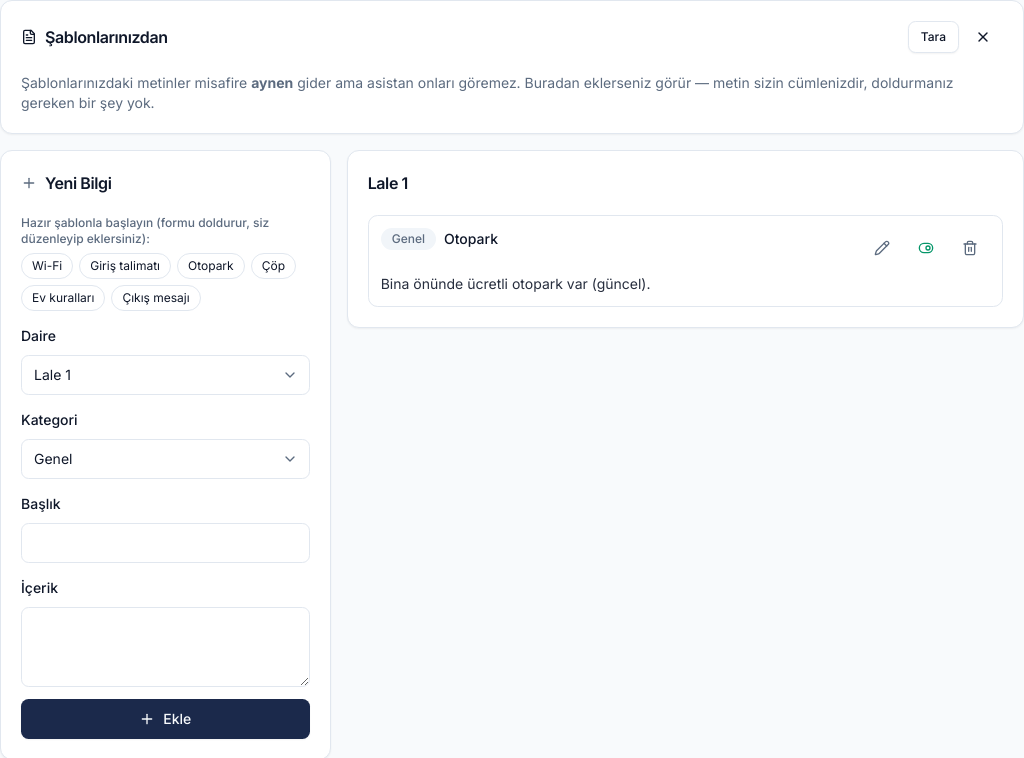
Test: Bilgi tabanı formu (KbManager) › kurucu D1: 'Kaydedilen bilgiyi düzenle' düzenleyiciyi GÜNCEL listeden açar (409 anındaki kopyadan değil)
Type "Otopark" into the field with id "kb-title" at (165, 543), box [21, 523, 310, 563]
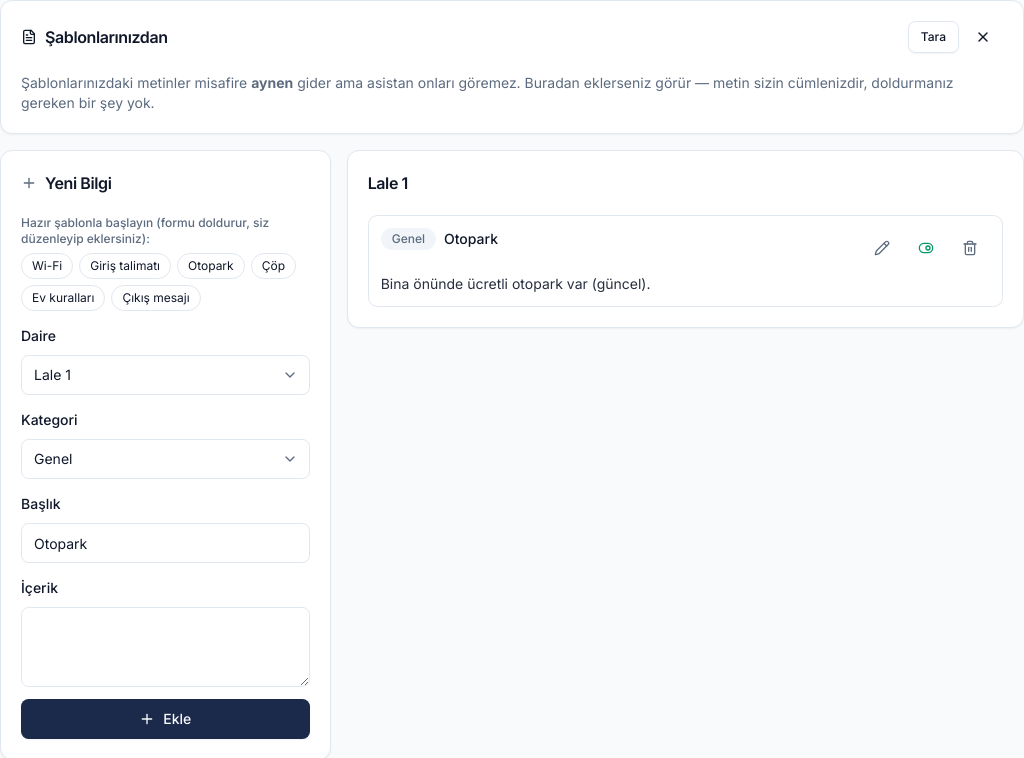
Type "Bina önünde ücretsiz otopark var." into the text box with id "kb-content" at (165, 647), box [21, 607, 310, 687]
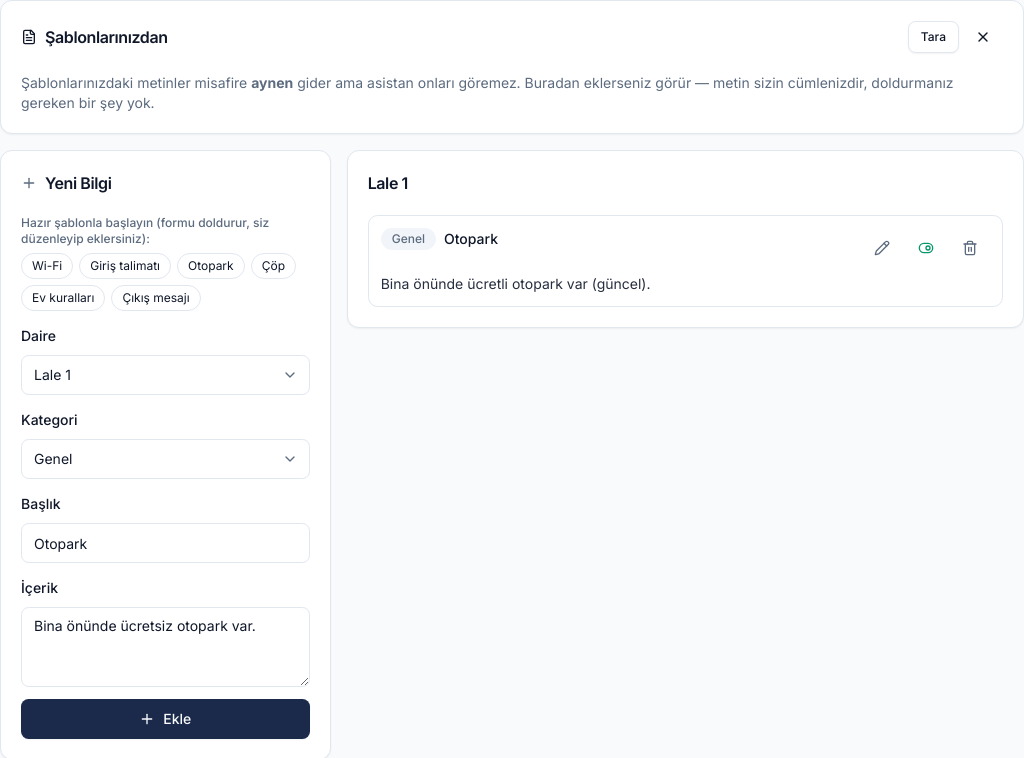
Click the button "Ekle" at (165, 719), box [21, 699, 310, 739]
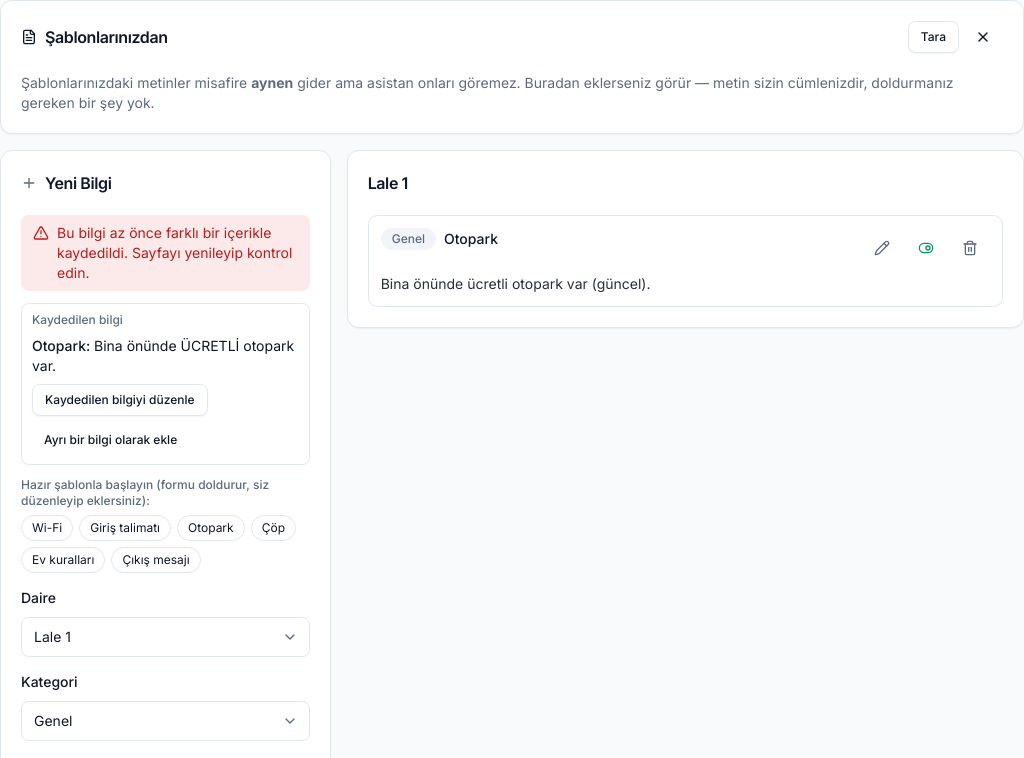
Click the button "Kaydedilen bilgiyi düzenle" at (120, 400), box [32, 384, 208, 416]
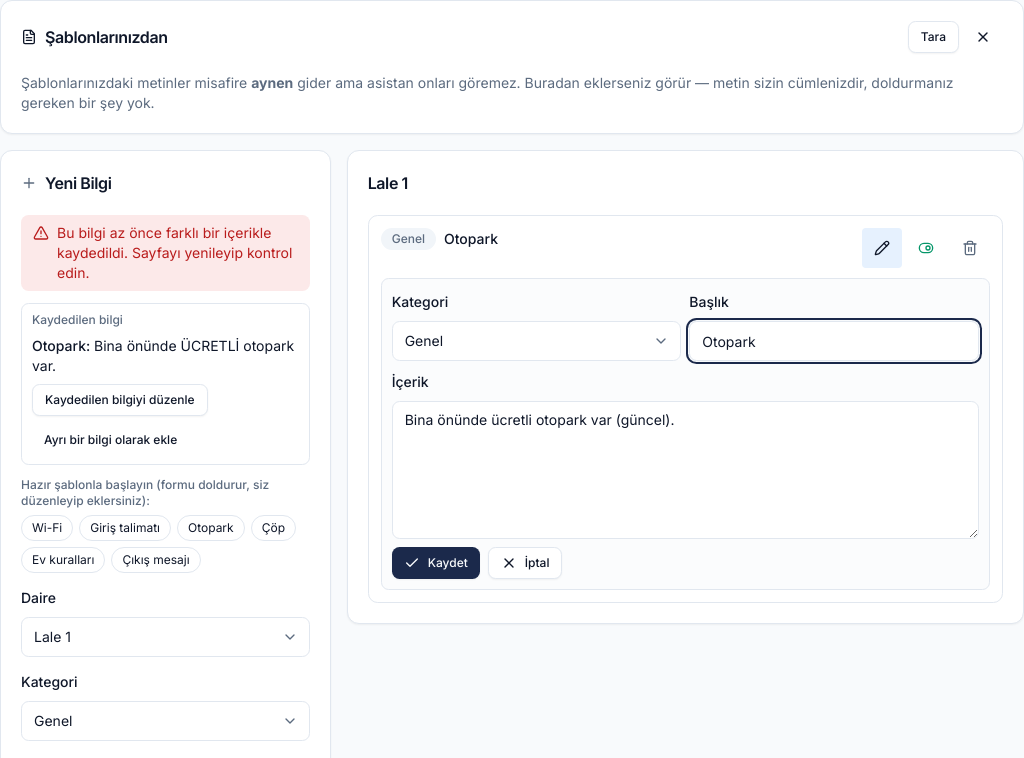
expect the text box showing "Bina önünde ücretli otopark var (güncel)." is shown: met, box [392, 401, 979, 539]
